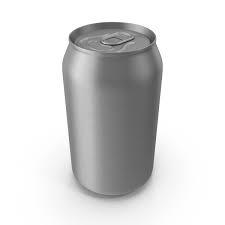beer: (59, 21, 164, 197)
